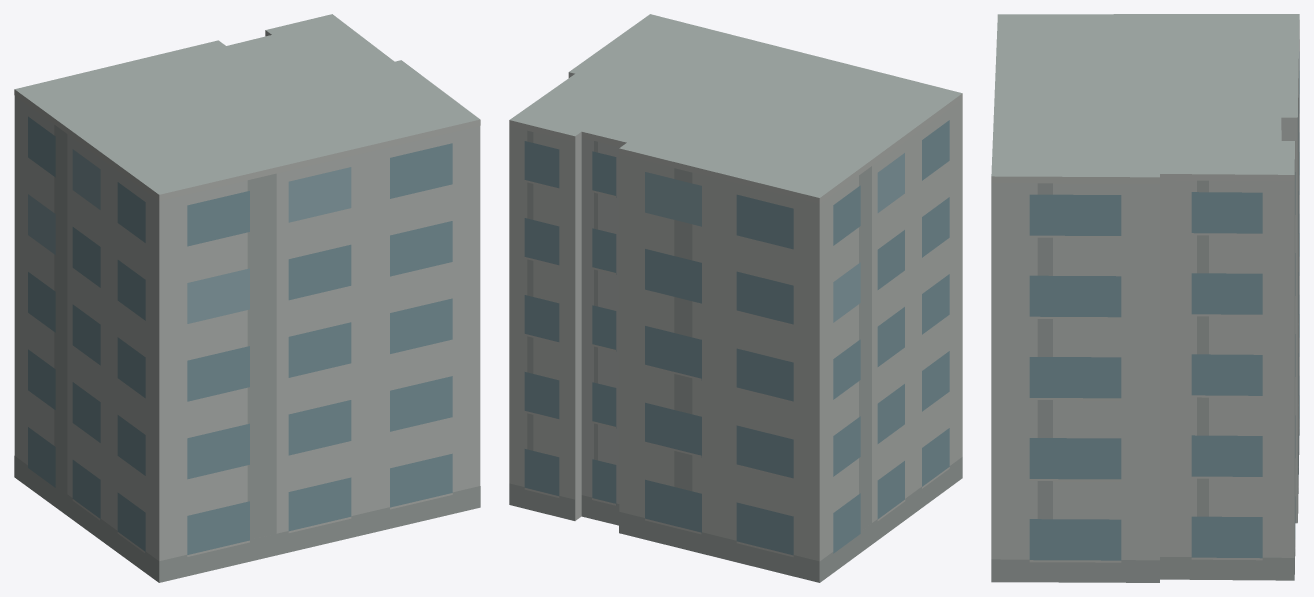
File: survey-upis-32740824.glb
3 views of the same model, side by side, from view 1: azimuth 30°, elevation 25°; view 2: azimuth 150°, elevation 25°; view 3: azimuth 270°, elevation 25° (orthographic). The views are drawn at different scales.
Parts seen in each view (by area): view 1: survey-upis-32740824.tmp; view 2: survey-upis-32740824.tmp; view 3: survey-upis-32740824.tmp.
Boxes of the visible parts, box(x1,y1,x2,y2) form: survey-upis-32740824.tmp: box(14, 14, 480, 582); survey-upis-32740824.tmp: box(509, 14, 962, 582); survey-upis-32740824.tmp: box(991, 14, 1299, 582).
Bounding box in the file's own units: 13.18 × 15.25 × 10.51.
